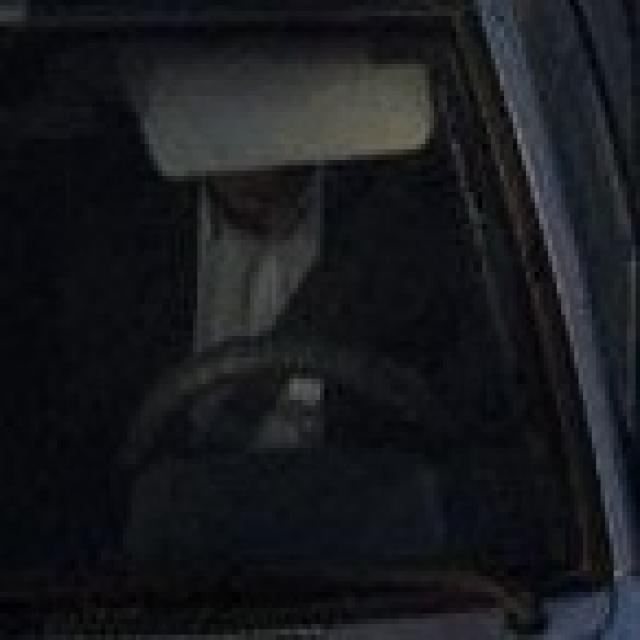seatbelt: (232, 154, 434, 432)
